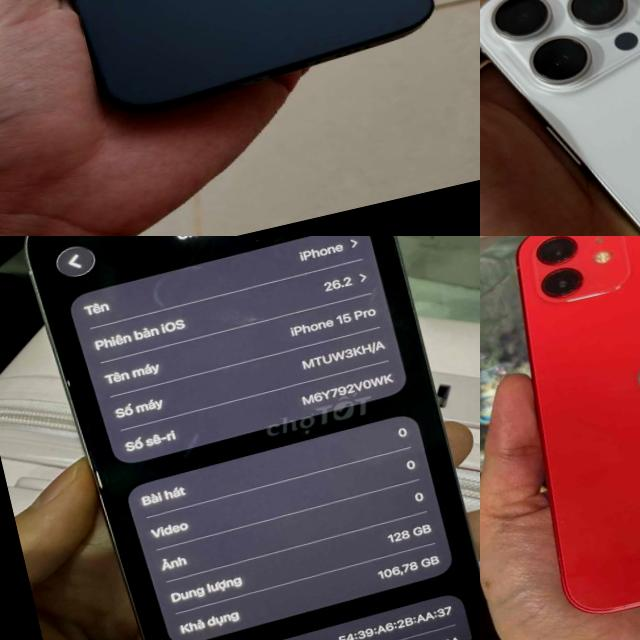gen_11: (480, 236, 640, 628)
gen_15: (0, 236, 480, 640), (0, 0, 452, 143)
gen_16: (480, 0, 640, 236)
